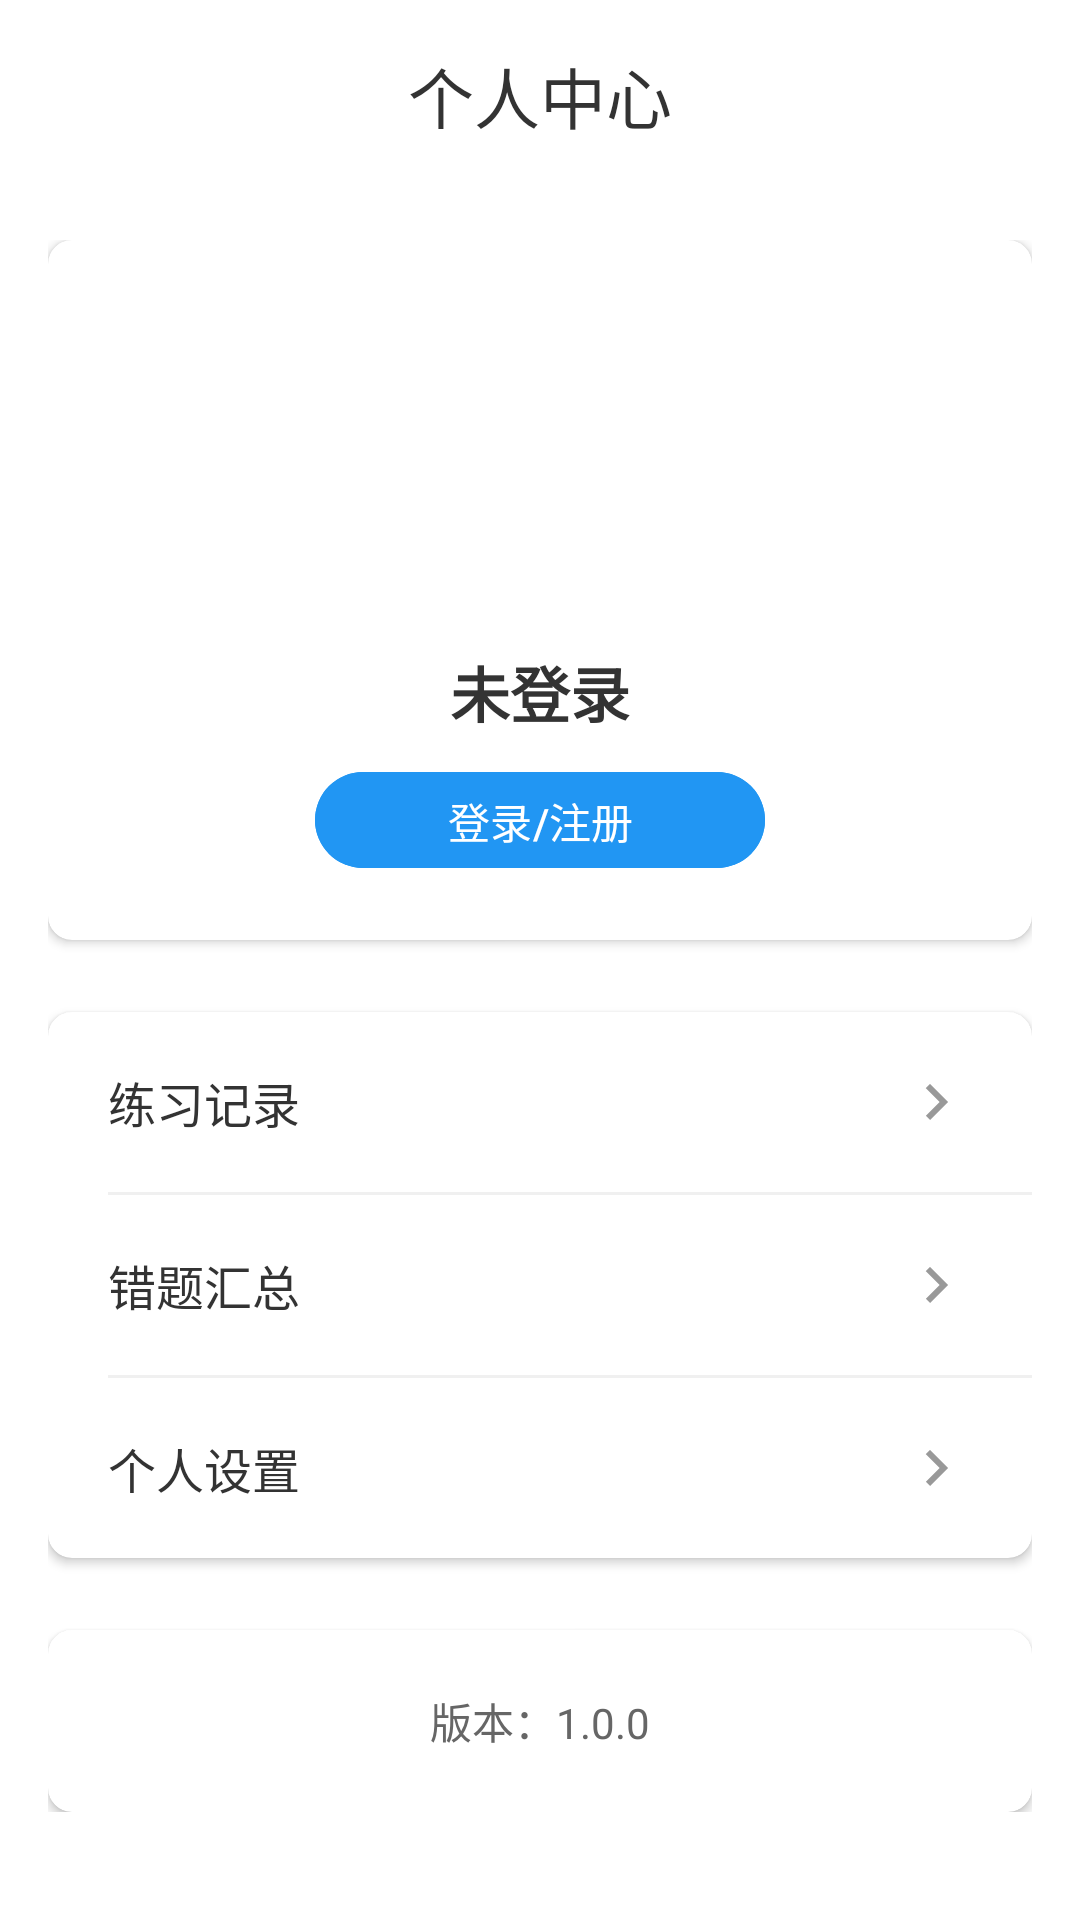

Icon click points for this 1080w x 1920h phone screenshot, format [x,y]:
箭头: [937,1102], [937,1285], [937,1468]
